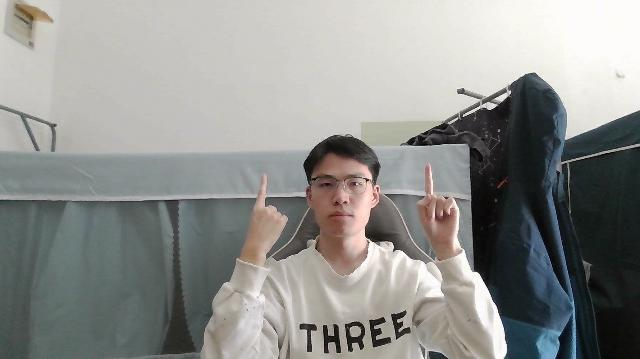one: (414, 164, 460, 244), (247, 174, 287, 253)
